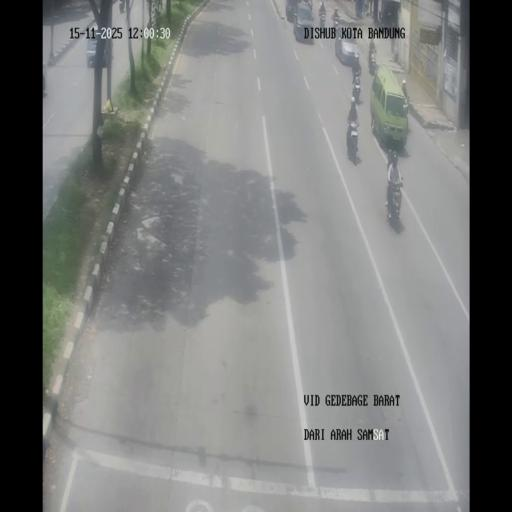car: (370, 65, 408, 149), (85, 29, 111, 68), (335, 28, 360, 66), (292, 3, 314, 42), (286, 0, 296, 22)
truck: (386, 175, 404, 220), (346, 119, 359, 160), (352, 74, 362, 104), (368, 48, 377, 75), (402, 95, 409, 118), (334, 17, 340, 39), (319, 8, 326, 25), (370, 108, 375, 130), (362, 0, 368, 16), (119, 0, 125, 13), (378, 10, 383, 23)
